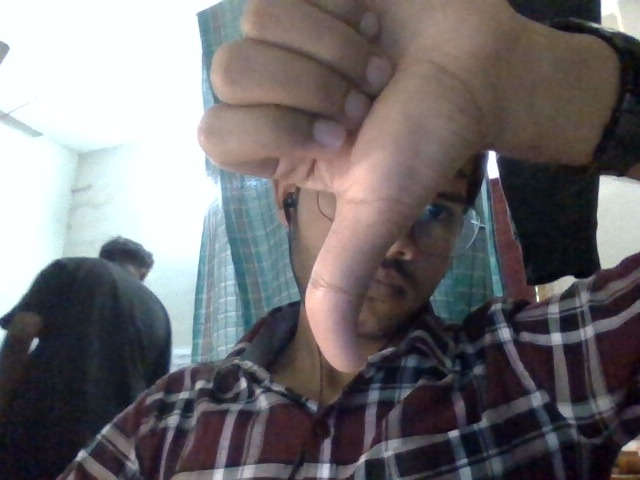ThumbDown: (186, 1, 496, 377)
